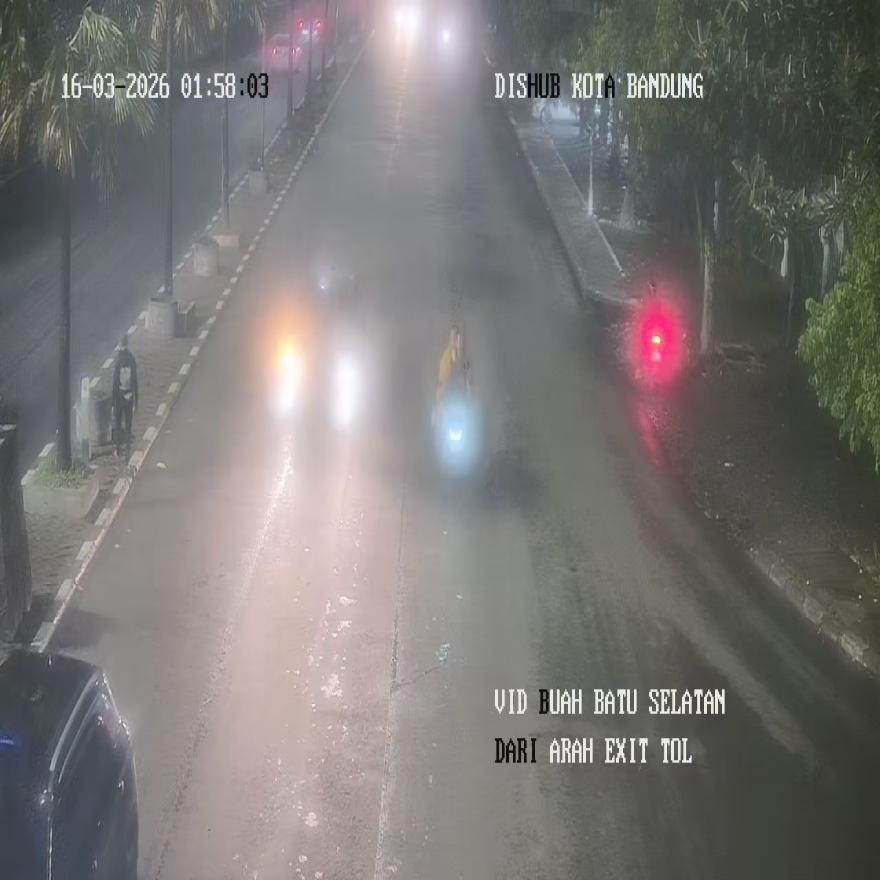Mobil: (0, 649, 140, 879), (264, 258, 355, 424)
